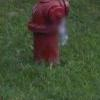Hydrant: (21, 2, 75, 71)
